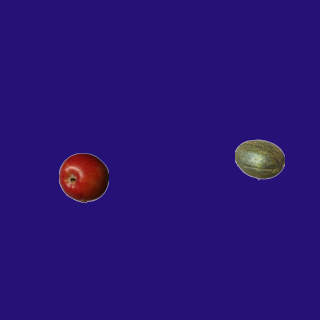Apple Braeburn: (58, 152, 108, 202)
Melon Piel de Sapo: (234, 134, 284, 184)
